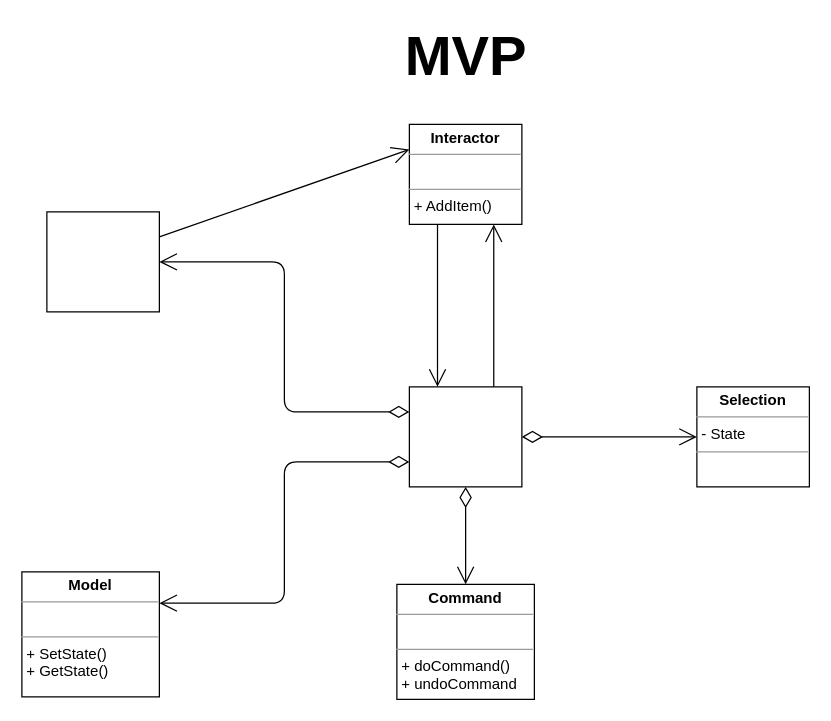
The diagram is 831 pixels wide and 721 high, and some of its shapes have lost their labels. Each missing label, with the centre of its shape:
"Presenter + CreateView()" belongs at pixel 465 436.
"View + Update()" belongs at pixel 102 261.
